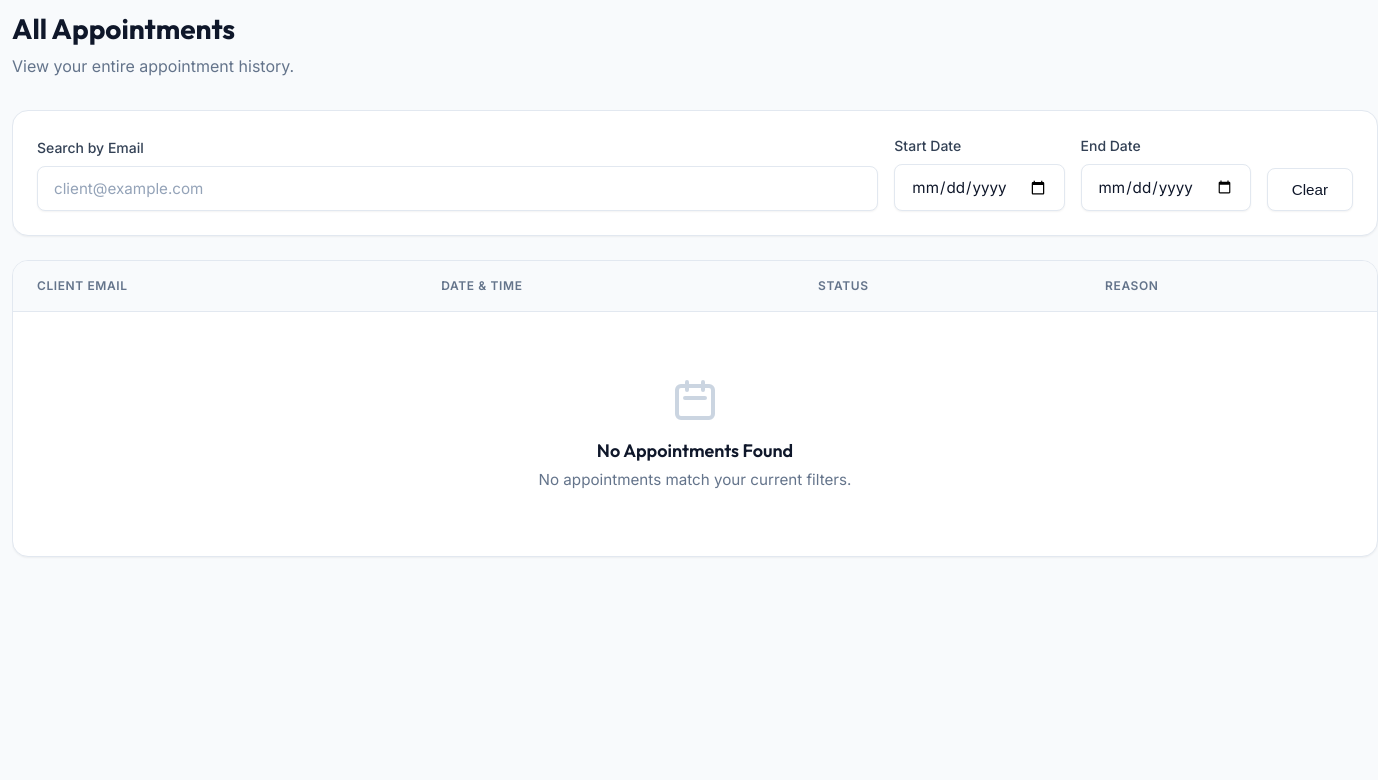
Test: AppointmentsTable › updates search params on filter changes
Expected: the text "Loading appointments..." is not shown
Step 1. Type "test@example.com" into the field labelled "Search by Email" → (458, 188), box [37,166,878,211]
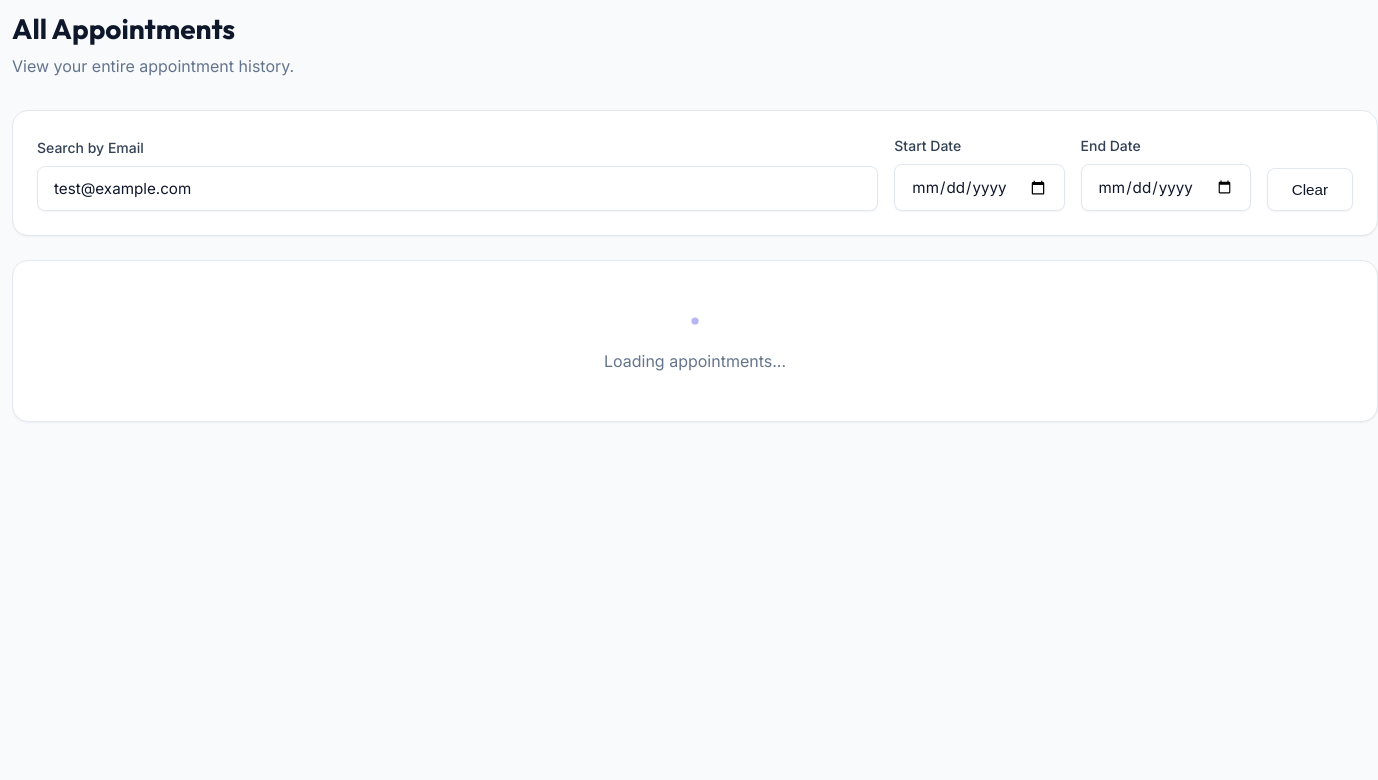
Step 2. Click the button "Clear" → (1310, 189), box [1267,168,1353,211]
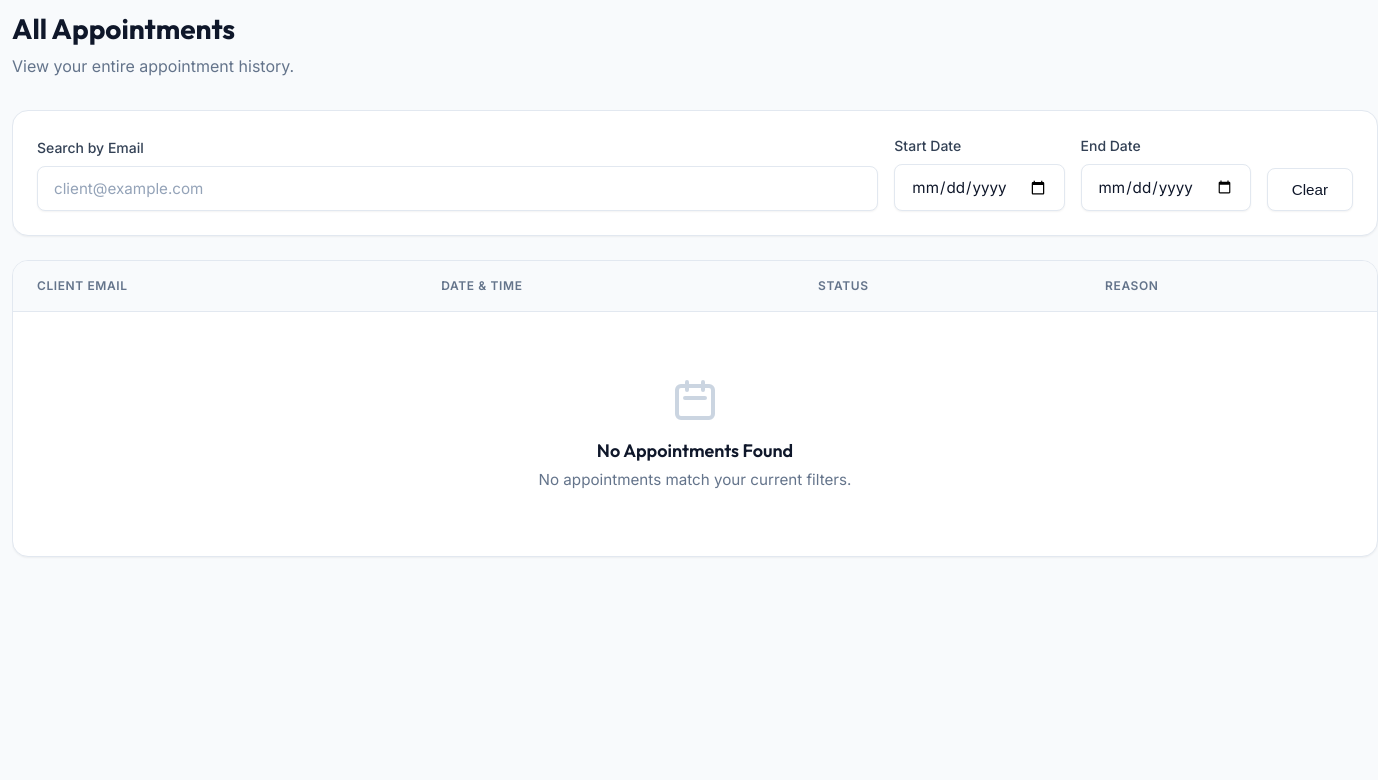
Result: the field labelled "Search by Email" is empty at [37,166,878,211]
